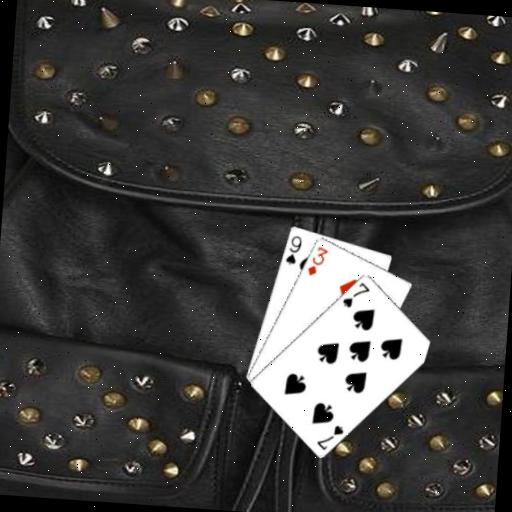3D: (304, 243, 330, 279)
7S: (339, 278, 372, 311), (313, 420, 346, 453)
9S: (282, 232, 303, 267)
